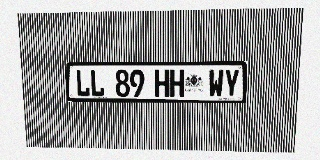8: (115, 70, 130, 97)
9: (130, 70, 144, 97)
H: (170, 69, 184, 97), (155, 70, 169, 97)
L: (75, 70, 90, 97), (90, 70, 104, 97)
W: (208, 69, 224, 97)
Y: (224, 69, 239, 97)
